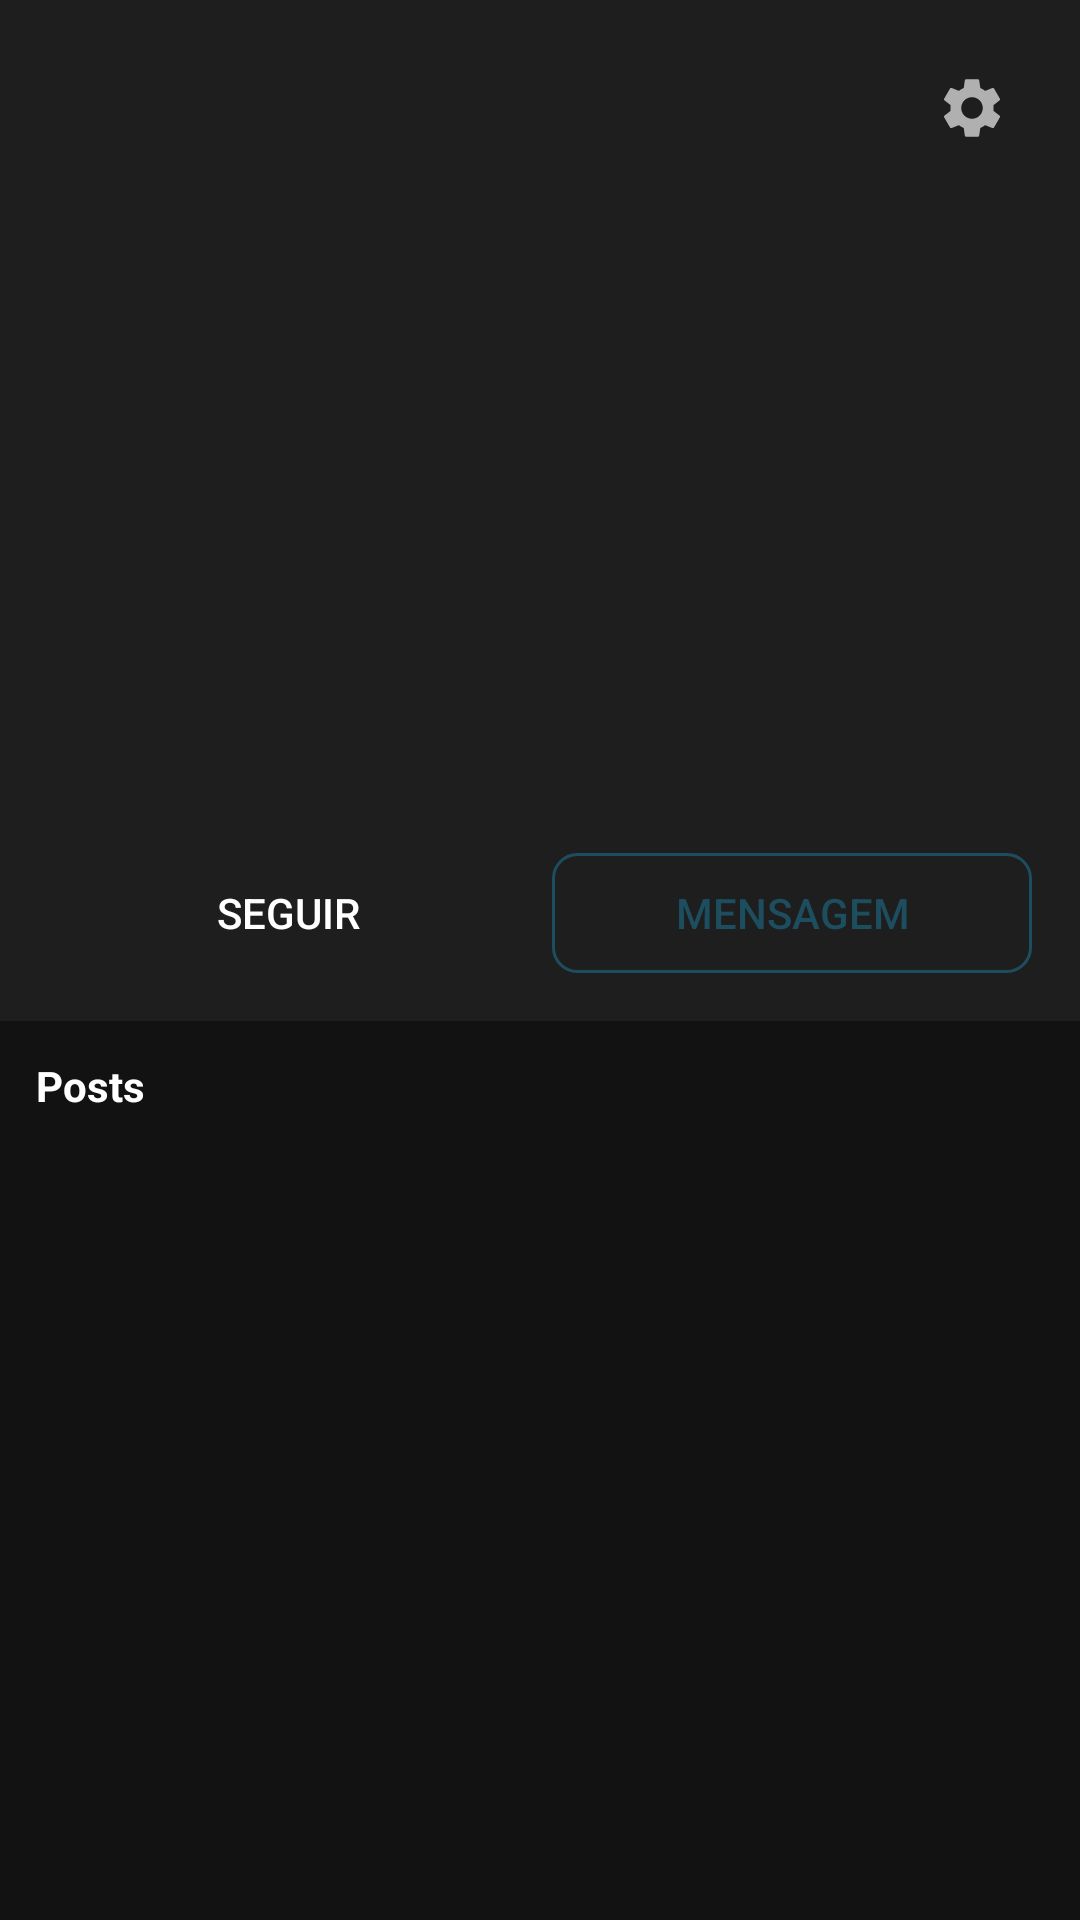

Screen size 1080x1920. Icon name, then its center in pixels as point (x, y):
Configurações: point (972, 108)
